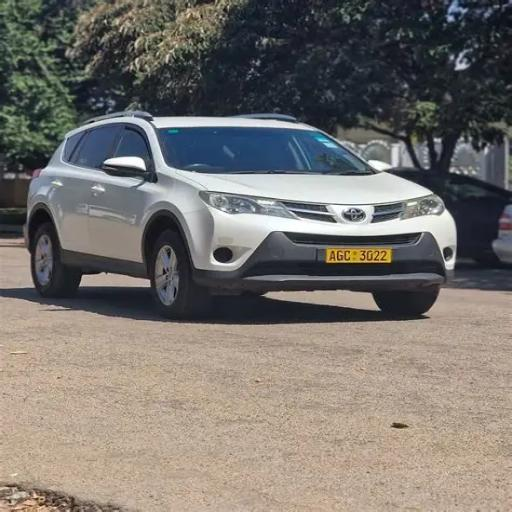number-plates: (328, 244, 396, 262)
